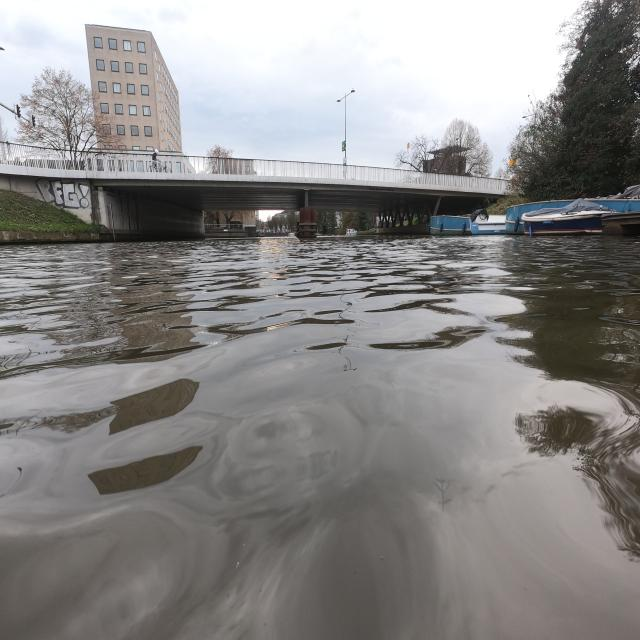boat: (522, 199, 614, 235), (505, 200, 573, 234), (429, 208, 506, 235), (588, 198, 640, 212)
dock: (2, 232, 110, 242), (601, 211, 640, 236), (1, 231, 76, 243)
grass: (4, 190, 110, 232)
sky: (12, 6, 574, 164)
tree: (509, 0, 640, 200)
wall: (89, 181, 204, 240)
water: (5, 238, 633, 634)
